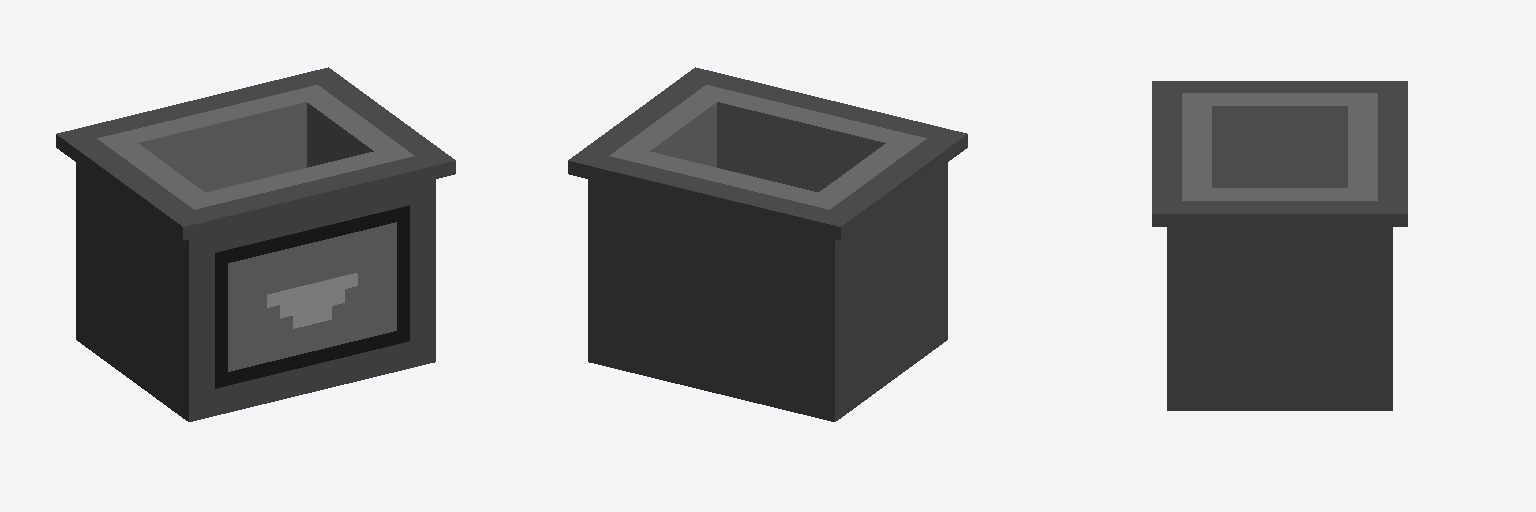
The picture shows the model from 3 angles: view 1: azimuth 30°, elevation 25°; view 2: azimuth 150°, elevation 25°; view 3: azimuth 270°, elevation 25°; orthographic projection.
Visible parts, largest first — view 1: object 1; view 2: object 1; view 3: object 1.
Part boxes in pixels (x1,y1,x2,y2): object 1: (56,67,455,421); object 1: (568,67,967,421); object 1: (1152,81,1407,410).
Size of the model in its own units: 2.1 by 1.6 by 1.7.
1 materials, 1 textured.